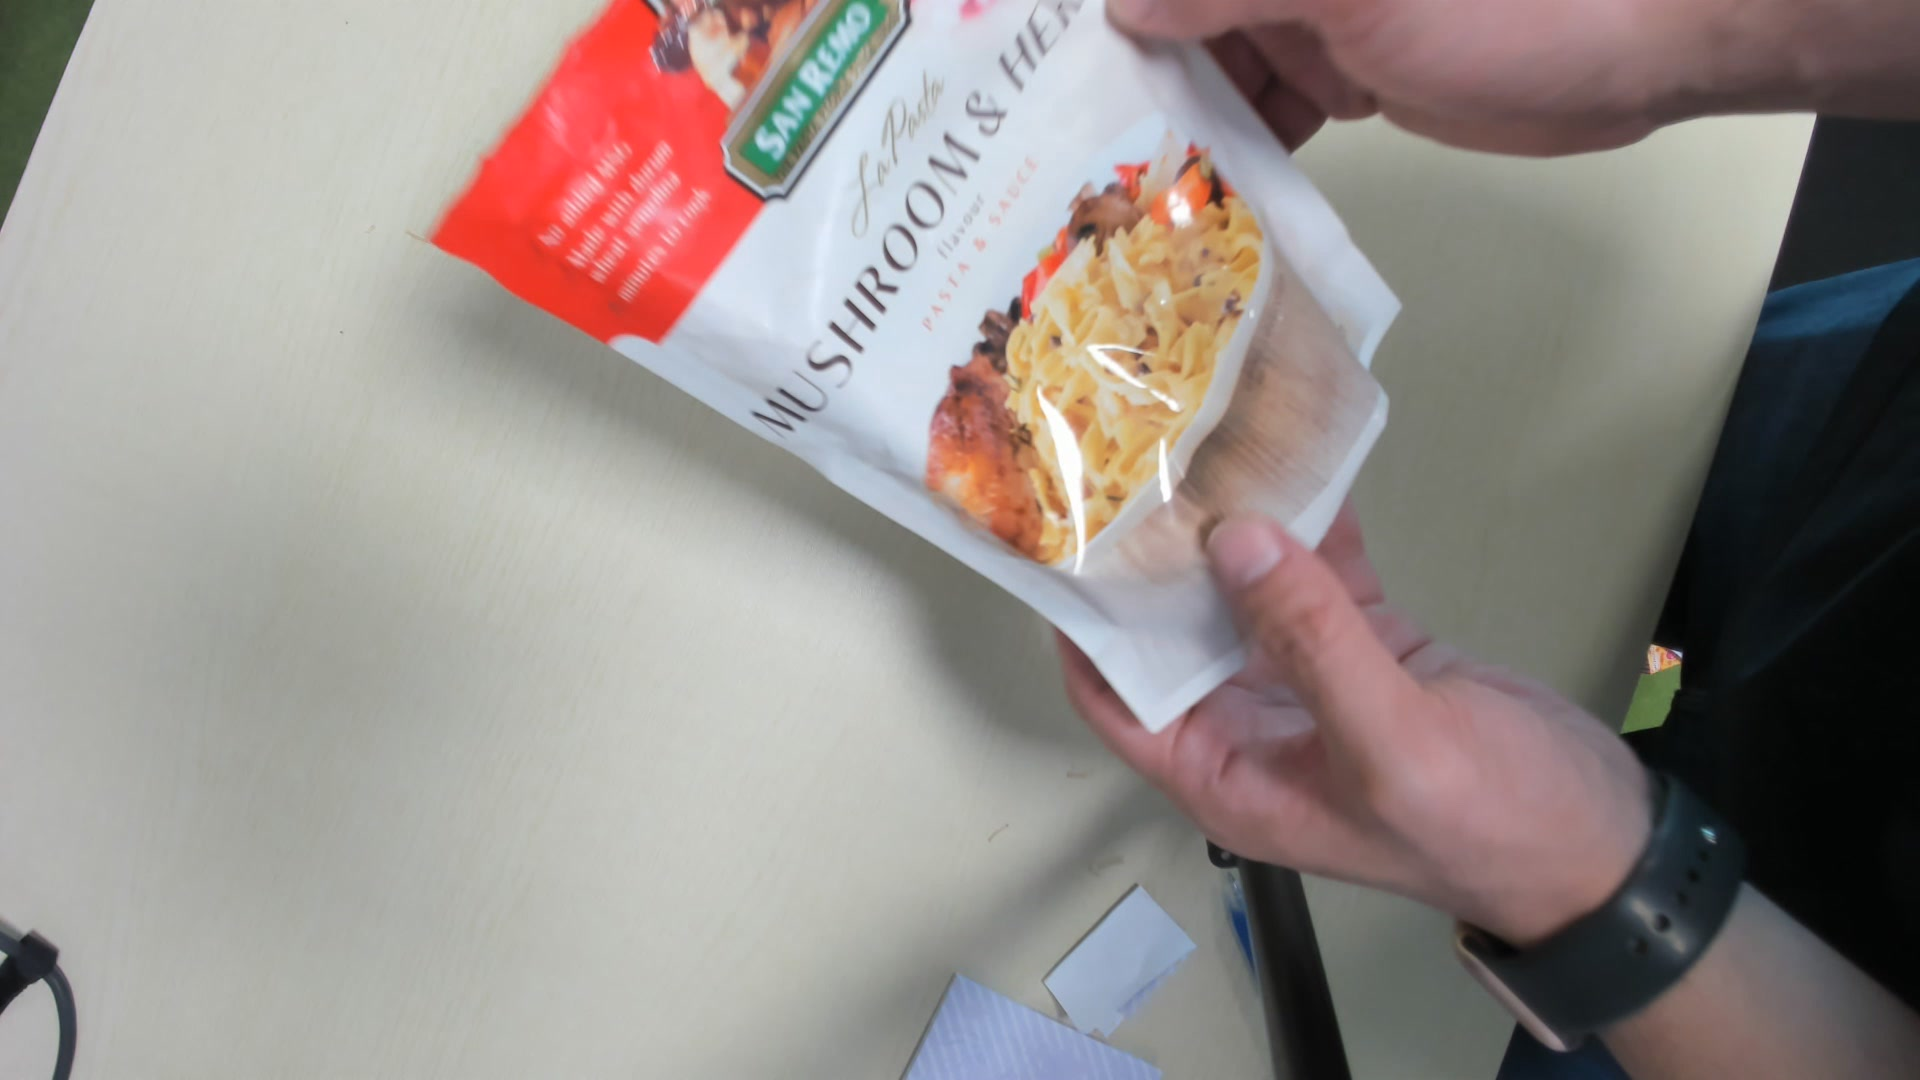InstantMeals_100-199g_NonHalal_Healthy: (417, 3, 1396, 745)
